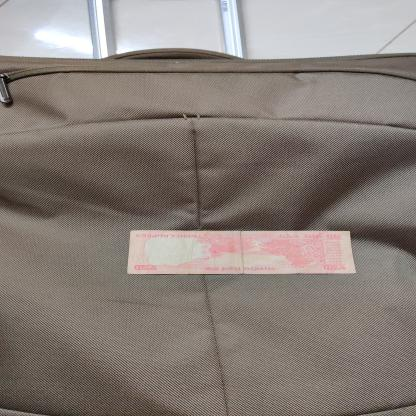Old20Back: (126, 231, 357, 274)
